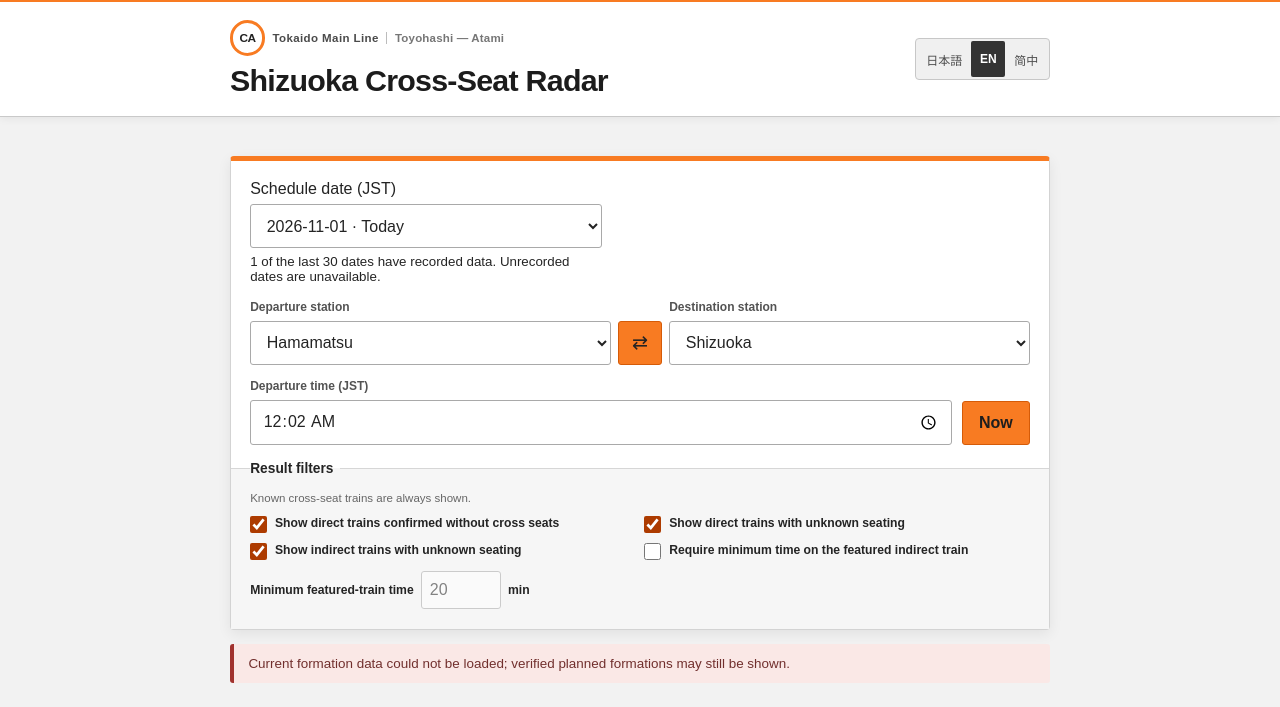
Test: App › shows a disclosed planned formation when the current snapshot cannot be loaded
Replace the text in the time field labelled "Departure time (JST)" with "00:00": (601, 422) [250,400,952,445]
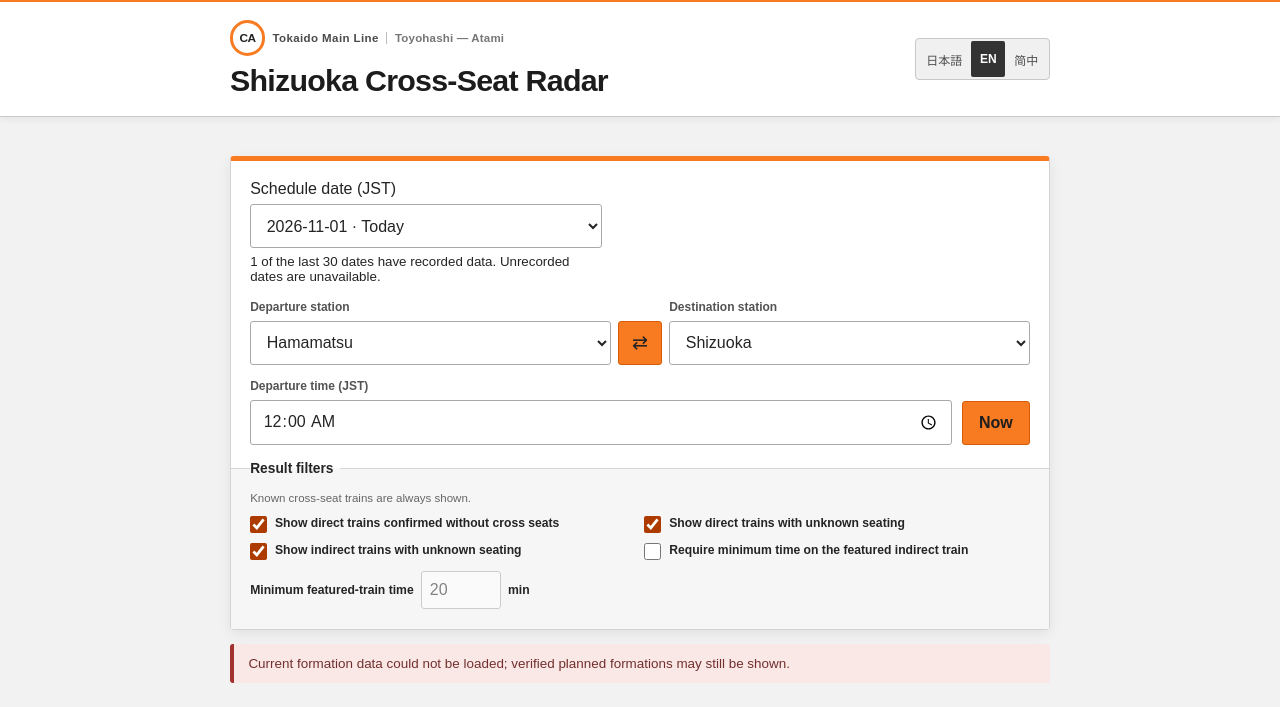
Expected: the text "Current formation data could not be loaded; verified planned formations may still be shown." is shown, [248,656,790,671]
Click the checkbox labelled "Show direct trains confirmed without cross seats": (259, 525) [250,516,267,533]
(page scrolled)
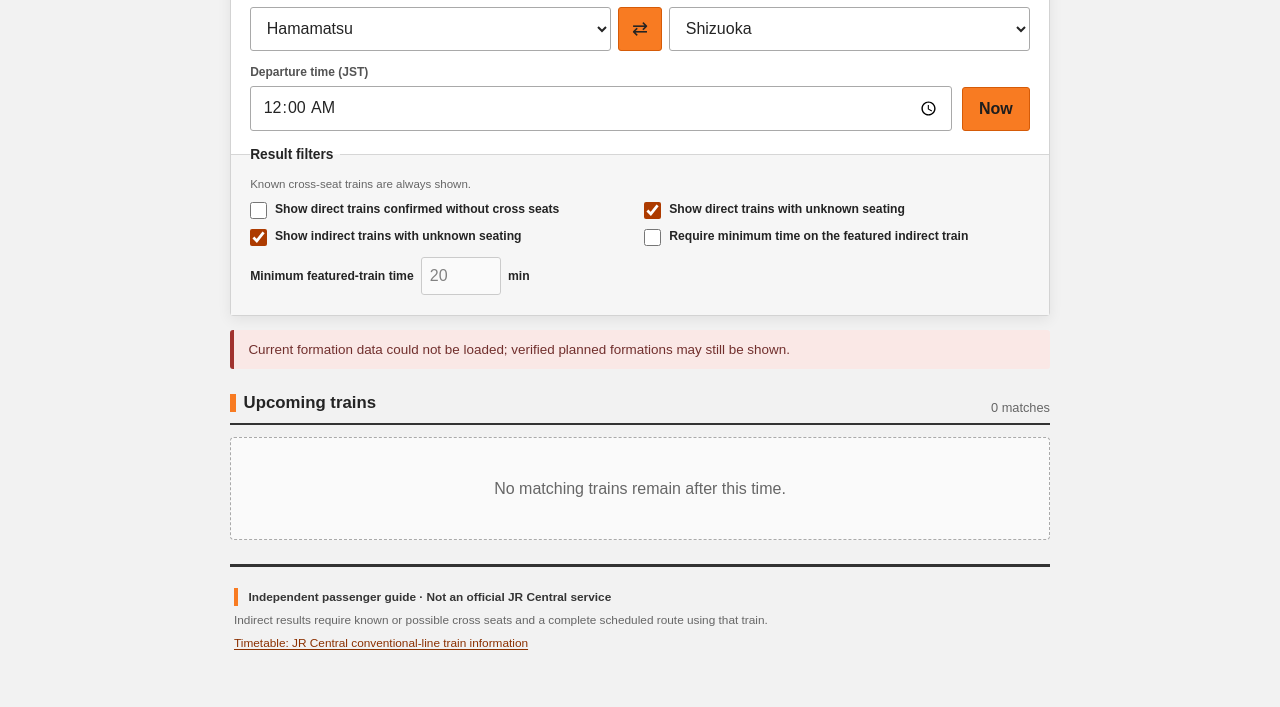
Expected: the text "No matching trains remain after this time." is shown, [230,437,1050,540]
